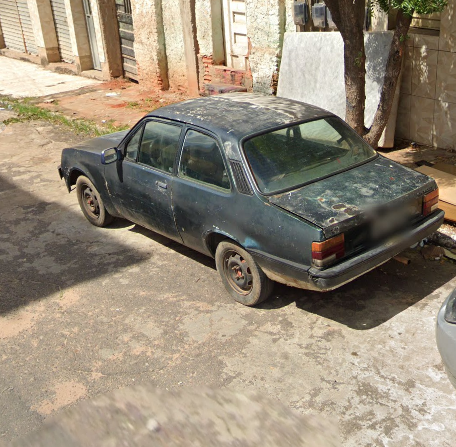car: (55, 88, 446, 318)
